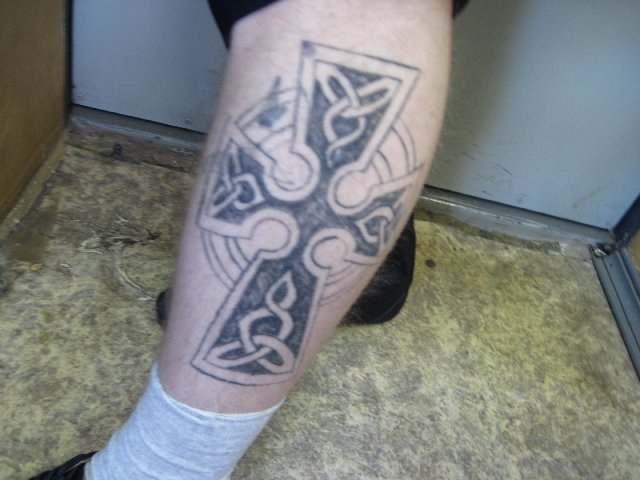tatu9_krest: (193, 30, 419, 402)
